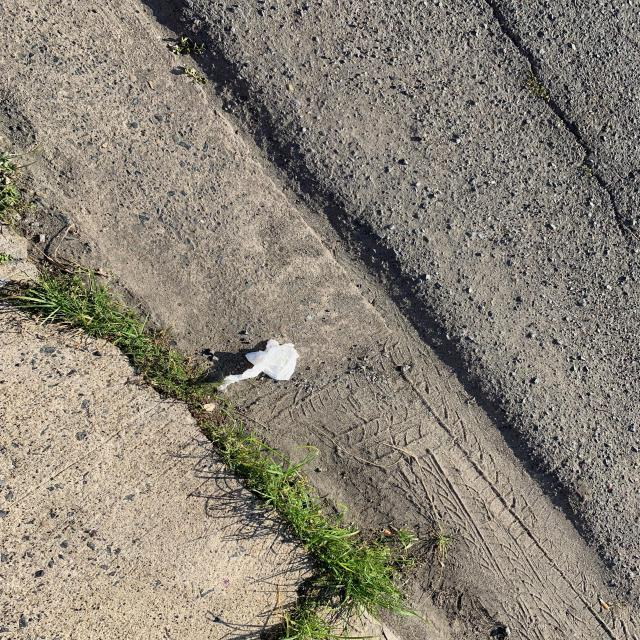Cigarette: (381, 528, 394, 537)
Tissues: (217, 339, 299, 390)
